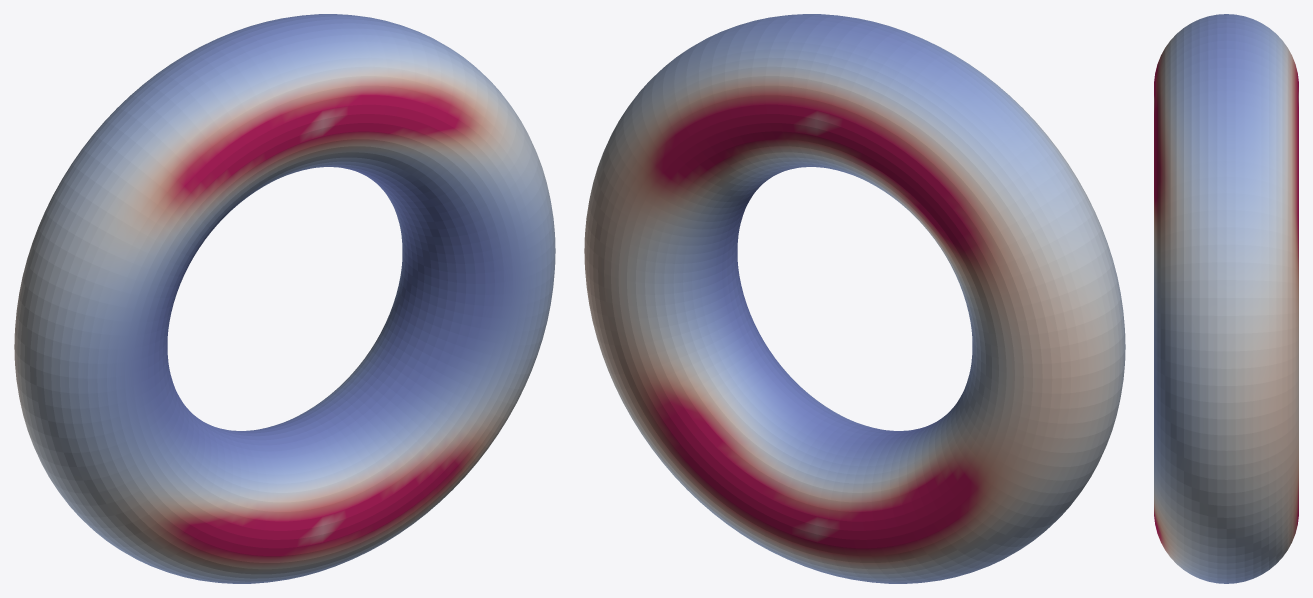
The picture shows the model from 3 angles, left to right: view 1: azimuth 30°, elevation 25°; view 2: azimuth 150°, elevation 25°; view 3: azimuth 270°, elevation 25°; orthographic projection. The views are drawn at different scales.
Visible parts, largest first — view 1: world; view 2: world; view 3: world.
Boxes of the visible parts, box(x1,y1,x2,y2) form: world: box(14, 14, 555, 583); world: box(584, 14, 1125, 583); world: box(1154, 14, 1298, 583).
Size of the model in its own units: 21.47 by 21.47 by 5.46.
